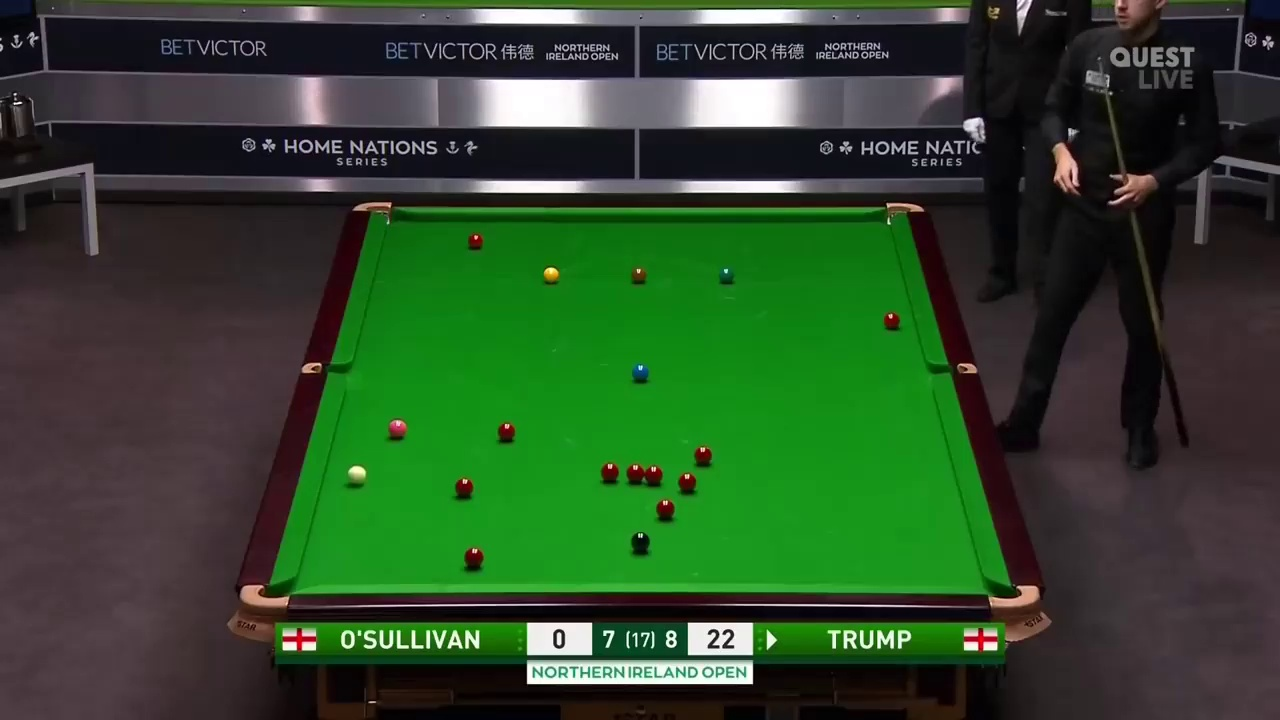ball: (385, 417, 406, 440), (692, 445, 716, 465), (630, 533, 654, 552), (652, 501, 677, 519), (496, 422, 517, 442), (600, 461, 621, 481), (345, 465, 367, 484), (453, 476, 476, 494), (679, 471, 699, 488), (631, 265, 648, 284), (467, 231, 484, 248), (541, 266, 560, 281), (633, 361, 649, 378), (882, 312, 900, 326), (722, 267, 734, 282)
